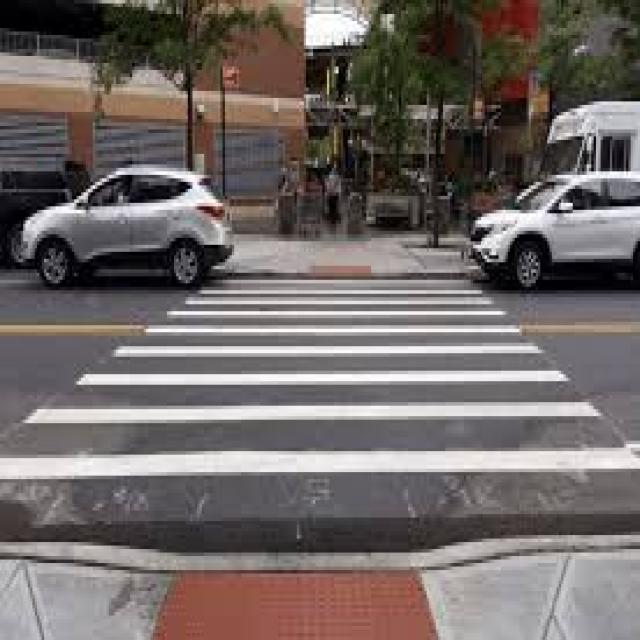Crosswalk: (0, 273, 640, 482)
